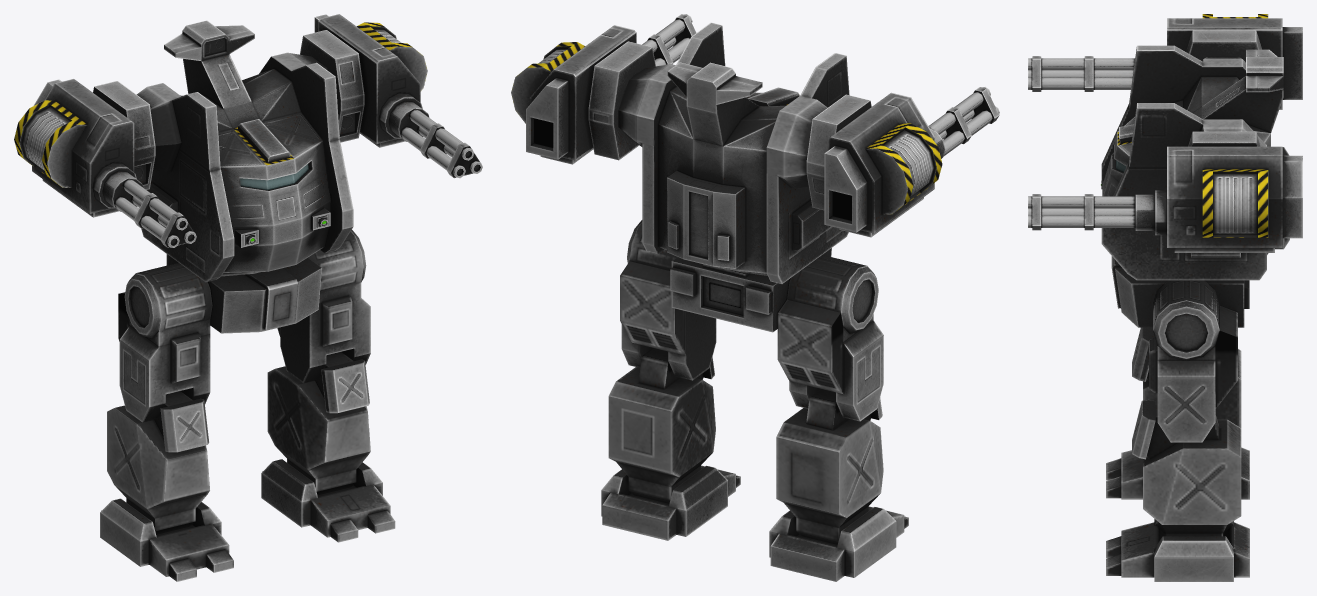
The picture shows the model from 3 angles, left to right: view 1: azimuth 30°, elevation 25°; view 2: azimuth 150°, elevation 25°; view 3: azimuth 270°, elevation 25°; orthographic projection. The views are drawn at different scales.
Visible parts, largest first — view 1: torso, 7F_luppera, lupperleg, rlowerleg, llowerleg, rupperarm, rupperleg, rfoot, lfoot, pelvis, barrels_2, barrels_1; view 2: torso, 7F_luppera, lupperleg, rupperarm, llowerleg, rlowerleg, rupperleg, lfoot, rfoot, pelvis, barrels_2, barrels_1; view 3: torso, rupperarm, rupperleg, rlowerleg, rfoot, 7F_luppera, barrels_1, barrels_2, pelvis, lfoot, llowerleg.
Part boxes in pixels (bbox=[...]): torso: bbox=[136, 20, 353, 282]; 7F_luppera: bbox=[14, 79, 155, 217]; lupperleg: bbox=[118, 262, 212, 422]; rlowerleg: bbox=[267, 352, 370, 495]; llowerleg: bbox=[107, 391, 209, 534]; rupperarm: bbox=[300, 14, 427, 147]; rupperleg: bbox=[277, 230, 370, 383]; rfoot: bbox=[261, 459, 395, 542]; lfoot: bbox=[100, 498, 233, 581]; pelvis: bbox=[166, 254, 321, 333]; barrels_2: bbox=[102, 171, 196, 247]; barrels_1: bbox=[388, 101, 482, 178]; torso: bbox=[618, 22, 849, 283]; 7F_luppera: bbox=[806, 92, 942, 237]; lupperleg: bbox=[777, 255, 883, 421]; rupperarm: bbox=[511, 25, 655, 164]; llowerleg: bbox=[776, 389, 883, 544]; rlowerleg: bbox=[608, 348, 715, 503]; rupperleg: bbox=[620, 220, 716, 380]; lfoot: bbox=[769, 506, 908, 581]; rfoot: bbox=[601, 465, 740, 540]; pelvis: bbox=[670, 248, 831, 332]; barrels_2: bbox=[928, 87, 999, 158]; barrels_1: bbox=[642, 14, 696, 66]; torso: bbox=[1101, 45, 1289, 280]; rupperarm: bbox=[1155, 131, 1302, 252]; rupperleg: bbox=[1149, 280, 1237, 442]; rlowerleg: bbox=[1132, 399, 1241, 536]; rfoot: bbox=[1106, 519, 1249, 581]; 7F_luppera: bbox=[1167, 14, 1302, 109]; barrels_1: bbox=[1028, 194, 1155, 230]; barrels_2: bbox=[1028, 56, 1135, 91]; pelvis: bbox=[1111, 256, 1249, 327]; lfoot: bbox=[1106, 447, 1249, 499]; llowerleg: bbox=[1132, 327, 1241, 427].
Size of the model in its own units: 56.9 by 66.65 by 35.95.
1 material, 1 textured.
